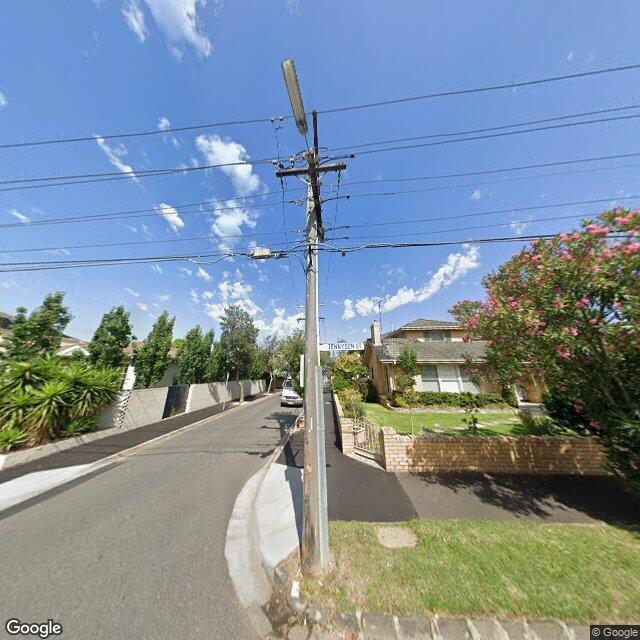crossarm: (307, 150, 325, 243), (276, 162, 347, 177), (313, 110, 320, 195)
streetlight: (281, 58, 313, 158)
timber-pole: (301, 147, 323, 578)
